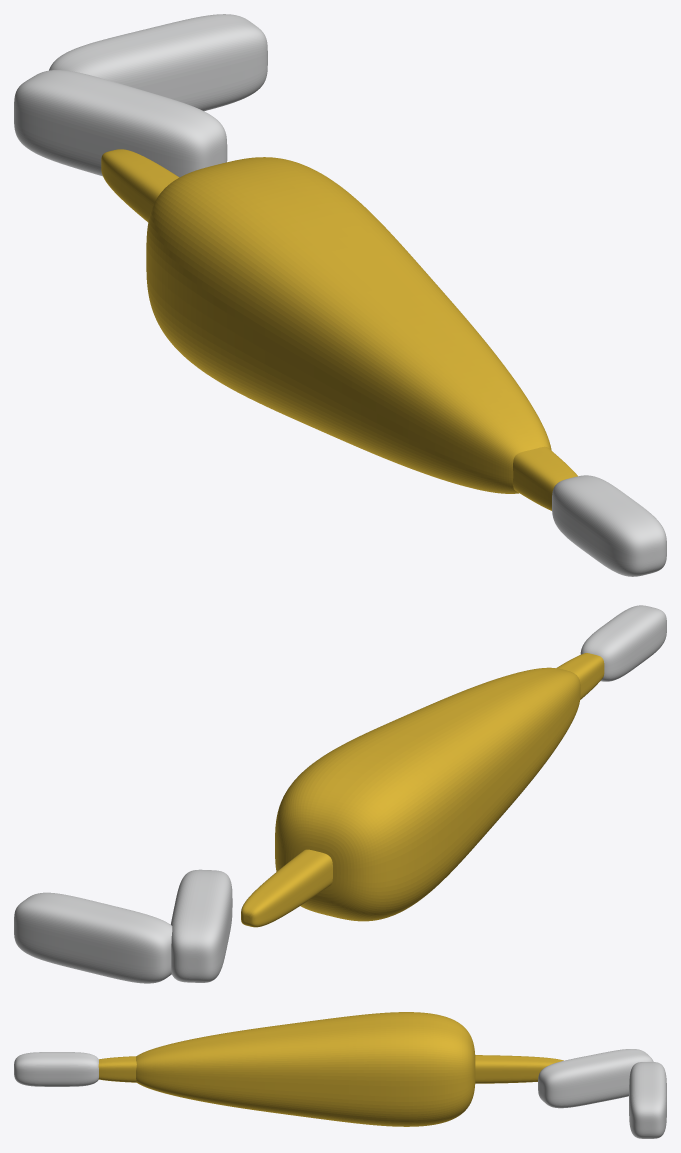
File: closed_umbrella_sq.glb
3 renders of one model, top to bottom at view 1: azimuth 30°, elevation 25°; view 2: azimuth 150°, elevation 25°; view 3: azimuth 270°, elevation 25°, orthographic. The views are drawn at different scales.
Visible parts, largest first — view 1: superquadric_1, superquadric_2, superquadric_3, superquadric_4, superquadric_0; view 2: superquadric_1, superquadric_3, superquadric_2, superquadric_0, superquadric_4; view 3: superquadric_1, superquadric_2, superquadric_0, superquadric_4, superquadric_3.
Part boxes in pixels (x1,y1,x2,y2): superquadric_1: [146, 157, 551, 493]; superquadric_2: [14, 70, 227, 177]; superquadric_3: [49, 14, 267, 111]; superquadric_4: [552, 475, 666, 576]; superquadric_0: [101, 149, 577, 510]; superquadric_1: [275, 667, 580, 921]; superquadric_3: [14, 892, 172, 983]; superquadric_2: [170, 869, 232, 982]; superquadric_0: [241, 653, 604, 927]; superquadric_4: [580, 605, 666, 681]; superquadric_1: [136, 1012, 475, 1126]; superquadric_2: [538, 1049, 653, 1108]; superquadric_0: [98, 1055, 563, 1083]; superquadric_4: [14, 1052, 98, 1086]; superquadric_3: [629, 1062, 666, 1138].
Size of the model in its own units: 0.2848 by 0.1602 by 1.
